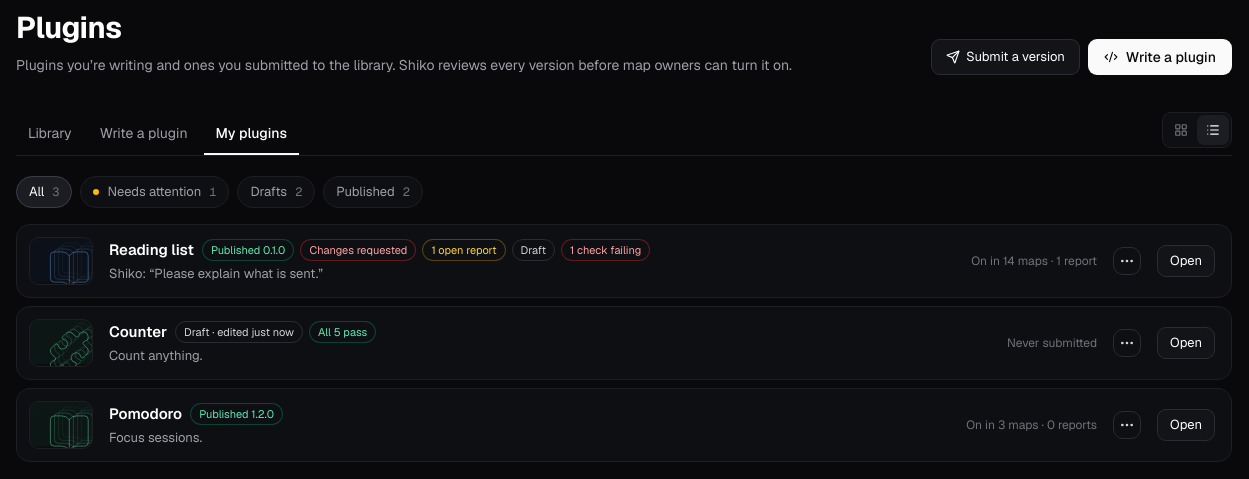
Test: MyPluginsContent › with Developer mode on › filters by stage and counts each filter
Check: the button "All 3" is shown, box [16,176,72,208]
Check: the button "Published 2" is shown, box [323,176,423,208]
Click the button "Drafts 2" at x=276, y=192, box [238,176,315,208]
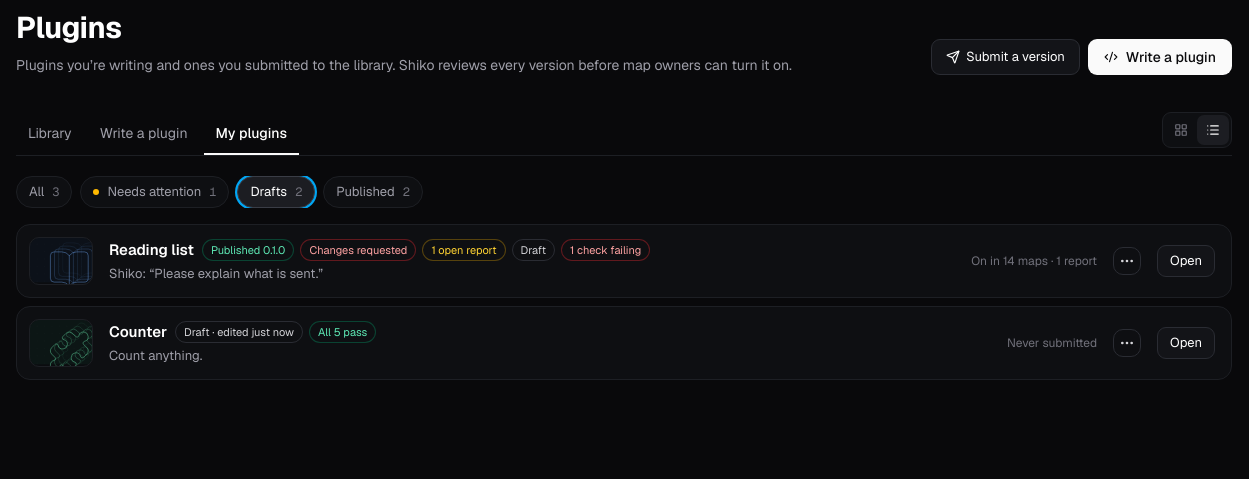
Check: the button "Counter" is shown, box [109,321,167,343]
Check: the button "Pomodoro" is gone
Click the button "Needs attention 1" at x=155, y=192, box [80,176,230,208]
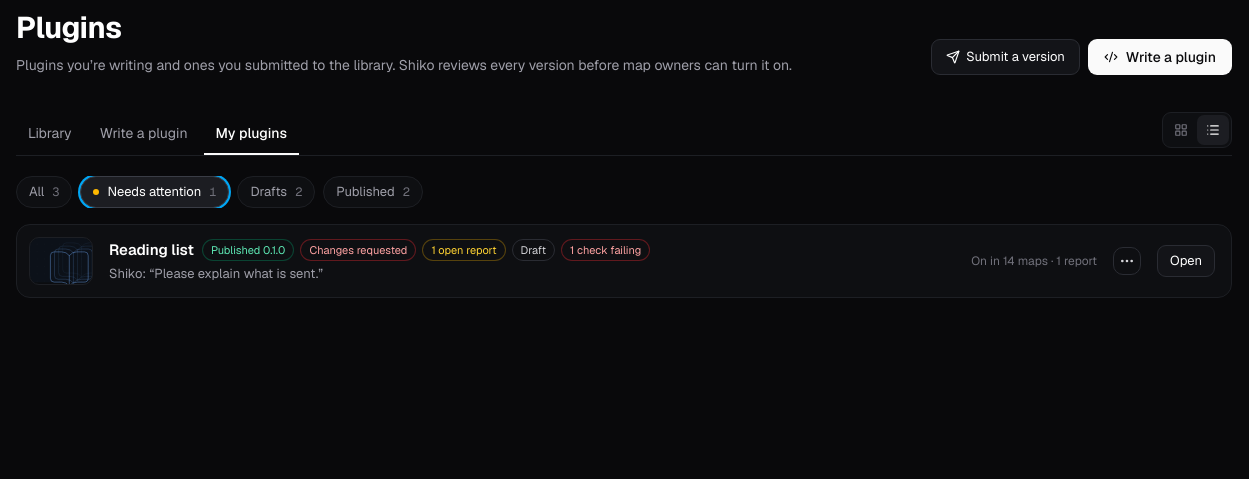
Check: the button "Reading list" is shown, box [109,239,194,261]
Check: the button "Counter" is gone
